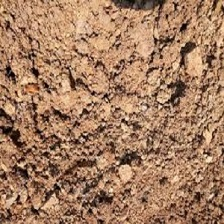clay_soil: (6, 25, 216, 210)
